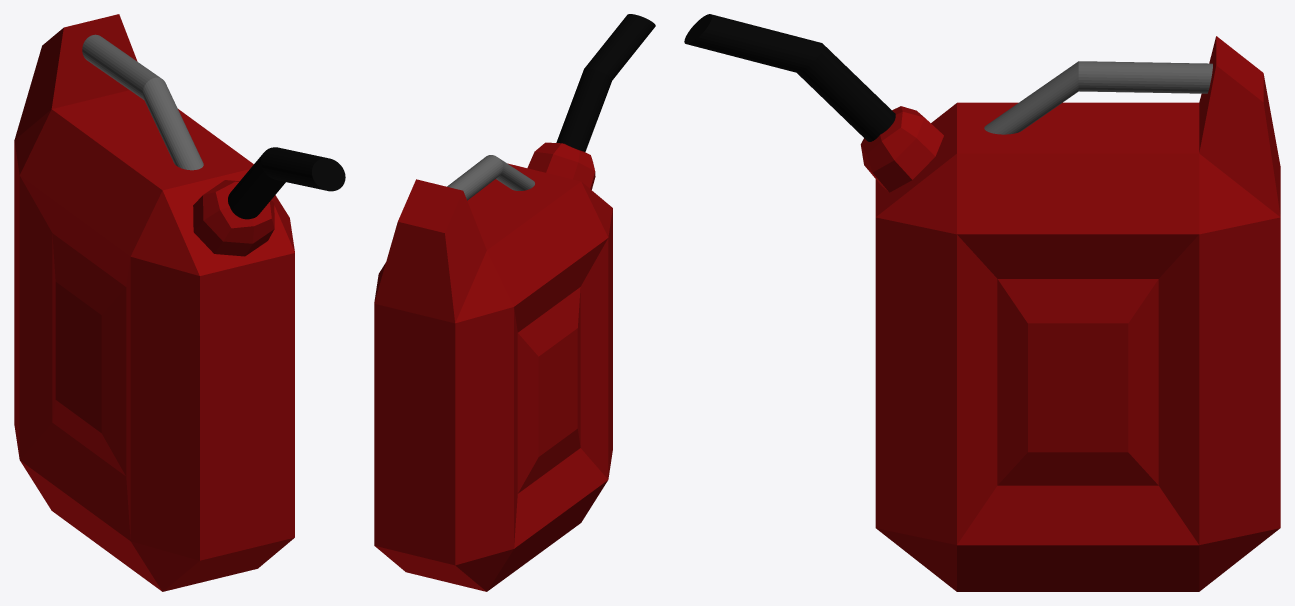
Rendered from PetrolCan.fbx.
3 renders of one model, left to right at view 1: azimuth 30°, elevation 25°; view 2: azimuth 150°, elevation 25°; view 3: azimuth 270°, elevation 25°, orthographic. The views are drawn at different scales.
Parts seen in each view (by area): view 1: Cube, Cylinder.001, Cylinder, Cube.001; view 2: Cube, Cylinder, Cube.001, Cylinder.001; view 3: Cube, Cylinder, Cylinder.001, Cube.001.
Part boxes in pixels (<box>): Cube: <box>14,14,294,591</box>; Cylinder.001: <box>82,34,203,170</box>; Cylinder: <box>228,147,345,219</box>; Cube.001: <box>193,180,274,256</box>; Cube: <box>374,163,612,591</box>; Cylinder: <box>556,14,655,151</box>; Cube.001: <box>527,142,595,189</box>; Cylinder.001: <box>447,155,534,200</box>; Cube: <box>875,36,1280,591</box>; Cylinder: <box>684,14,895,141</box>; Cylinder.001: <box>984,61,1212,134</box>; Cube.001: <box>860,106,943,192</box>.
Size of the model in its own units: 265 by 801 by 786.
Materials: 3 (3 with a texture image).
